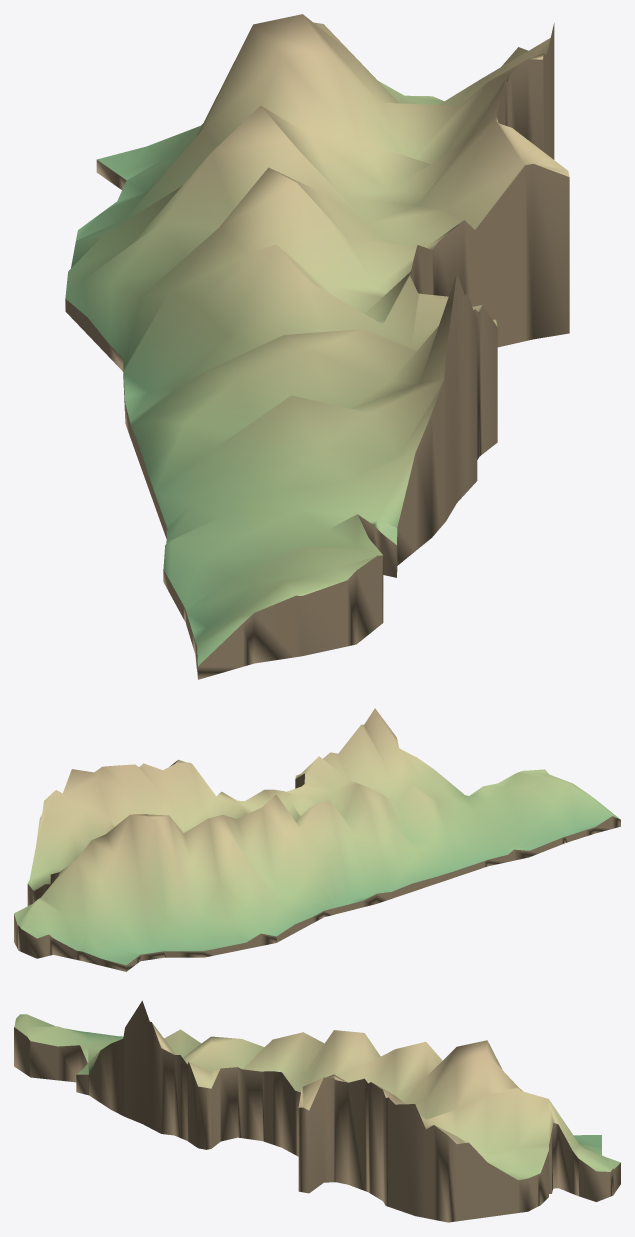
File: LBN.glb
3 renders of one model, top to bottom at view 1: azimuth 30°, elevation 25°; view 2: azimuth 150°, elevation 25°; view 3: azimuth 270°, elevation 25°, orthographic. The views are drawn at different scales.
Visible parts, largest first — view 1: LBN; view 2: LBN; view 3: LBN.
Part boxes in pixels (x1=…): LBN: x1=65, y1=14, x2=569, y2=679; LBN: x1=14, y1=708, x2=620, y2=971; LBN: x1=14, y1=1000, x2=620, y2=1222.
Bounding box in the file's own units: 1.15 × 0.338 × 1.5.
